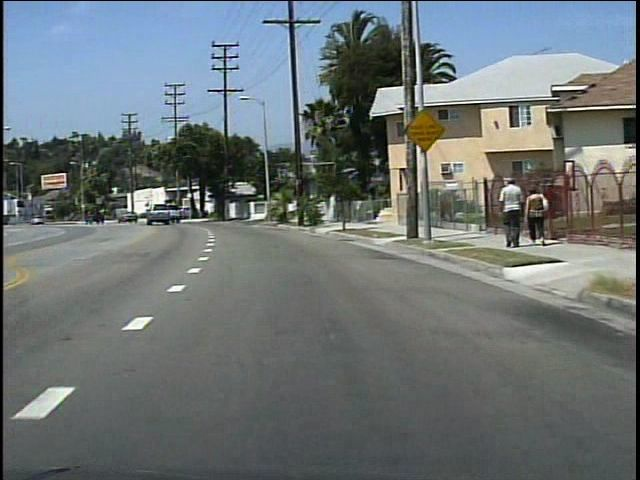person: (494, 174, 521, 249), (520, 183, 548, 244)
